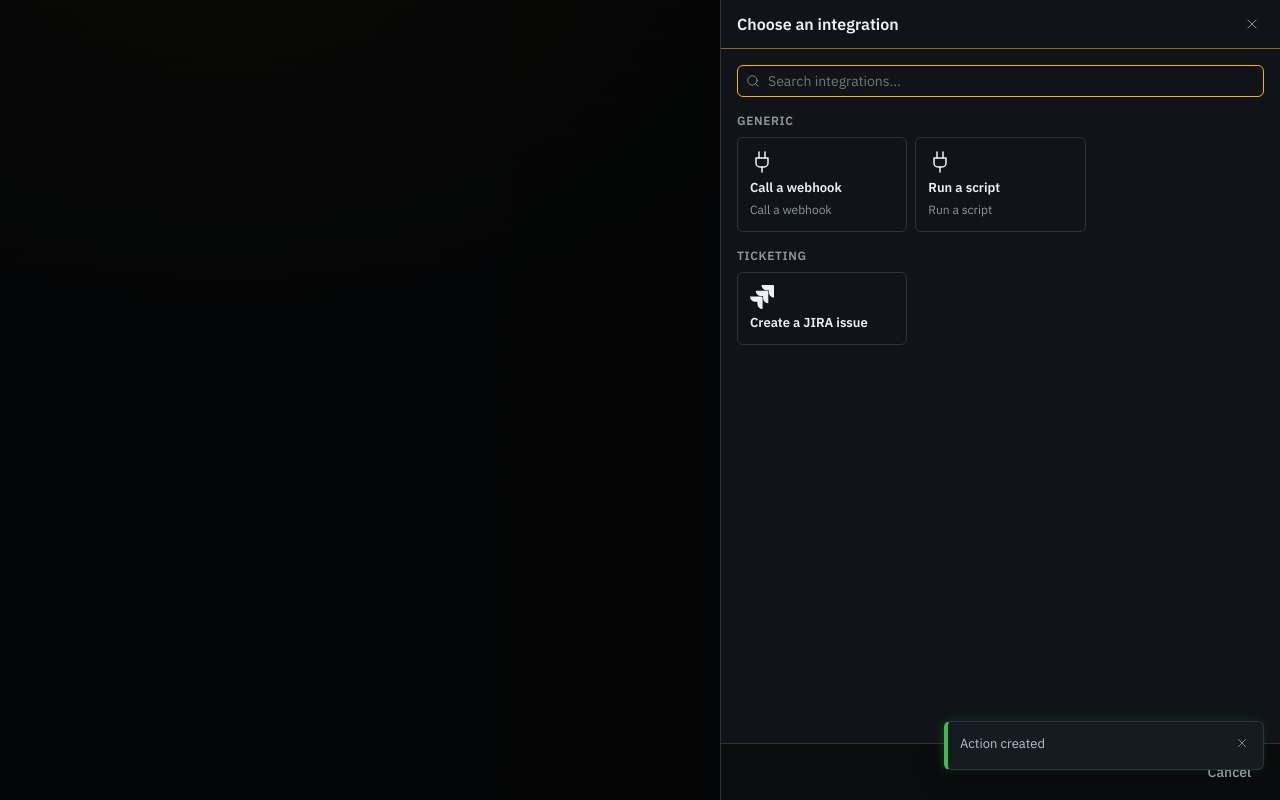
Test: ActionEditor › blocks save when a required action-config field is empty
The width and height of the screenshot is (1280, 800).
Click the button "Call a webhook Call a webhook": coordinates (822, 184) x1=737 y1=137 x2=907 y2=232
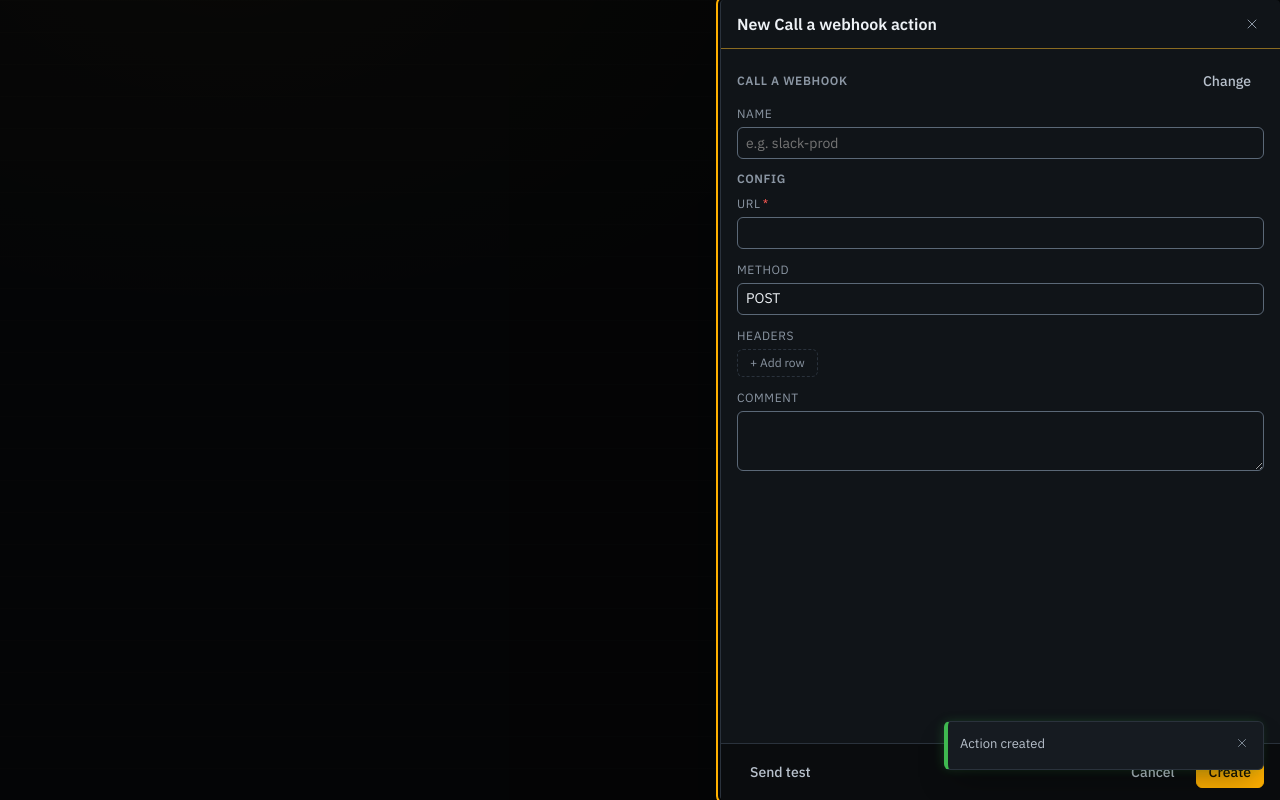
In the field labelled "Name": coordinates (1000, 143) x1=738 y1=132 x2=1263 y2=154, type "hook-prod"
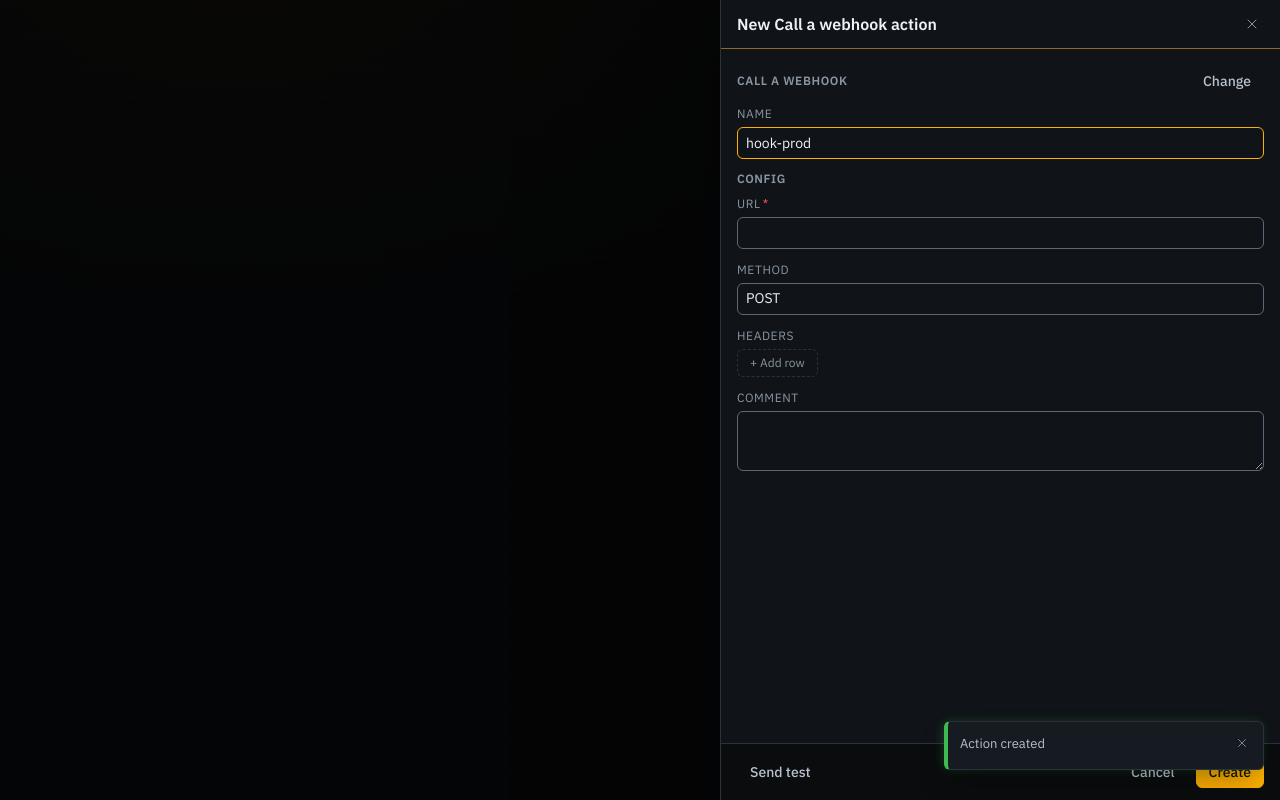
// Leave the required URL empty and try to create.
Click the button "Create": coordinates (1230, 772) x1=1196 y1=756 x2=1264 y2=788
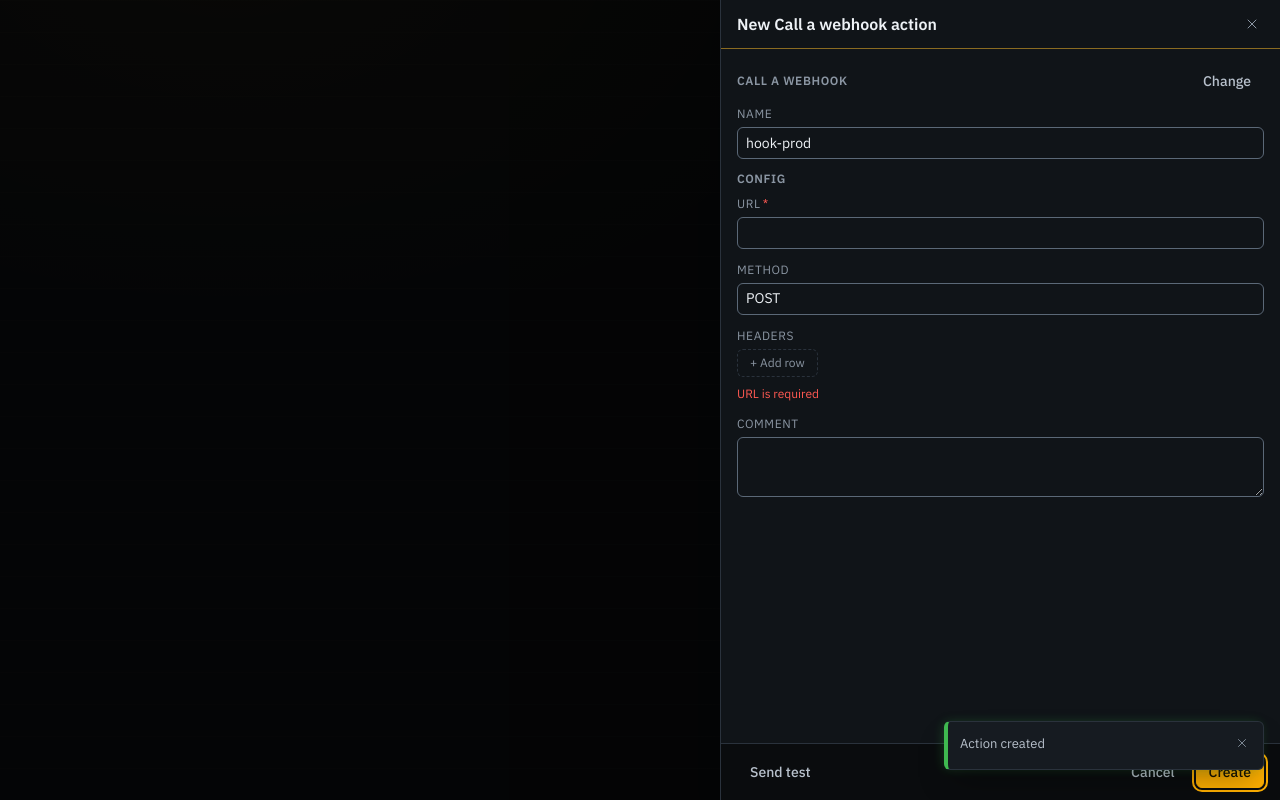
Check: the text "URL is required" is shown, box x1=737 y1=386 x2=819 y2=401
